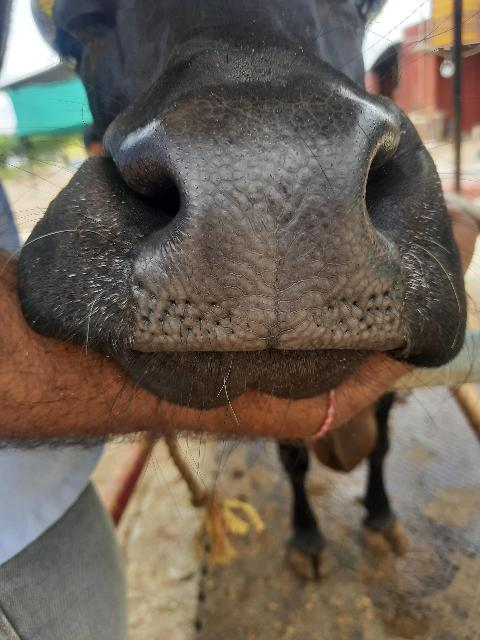Muzzle: (123, 110, 396, 362)
